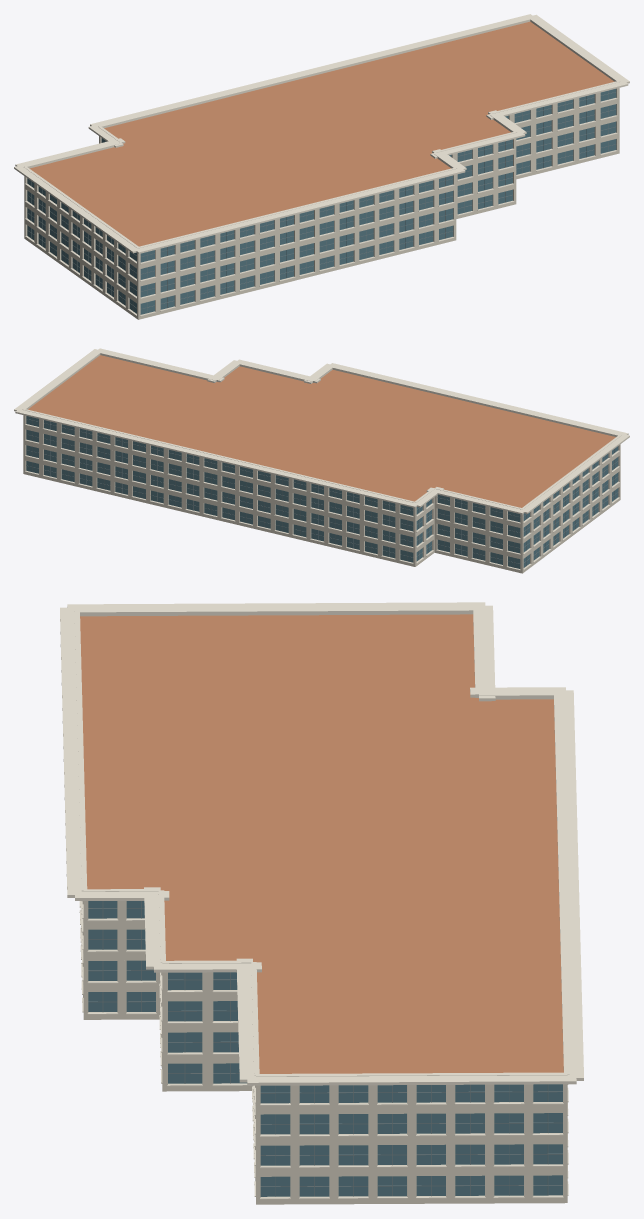
The model's file is lab3.glb.
3 renders of one model, top to bottom at view 1: azimuth 30°, elevation 25°; view 2: azimuth 150°, elevation 25°; view 3: azimuth 270°, elevation 25°, orthographic. The views are drawn at different scales.
Parts seen in each view (by area): view 1: roof, wall, glass, trim, metal; view 2: roof, wall, glass, trim, metal; view 3: roof, trim, glass, wall, metal.
Boxes of the visible parts, x1=… form: roof: x1=29, y1=21, x2=614, y2=246; wall: x1=24, y1=88, x2=619, y2=319; glass: x1=27, y1=89, x2=616, y2=314; trim: x1=14, y1=14, x2=629, y2=316; metal: x1=27, y1=91, x2=616, y2=312; roof: x1=28, y1=355, x2=615, y2=507; wall: x1=23, y1=415, x2=620, y2=573; glass: x1=26, y1=416, x2=618, y2=568; trim: x1=14, y1=348, x2=629, y2=570; metal: x1=26, y1=417, x2=618, y2=567; roof: x1=80, y1=614, x2=563, y2=1073; trim: x1=60, y1=602, x2=583, y2=1199; glass: x1=88, y1=901, x2=562, y2=1196; wall: x1=81, y1=901, x2=567, y2=1204; metal: x1=88, y1=901, x2=562, y2=1196.
Size of the model in its own units: 104 by 13.04 by 47.99.
